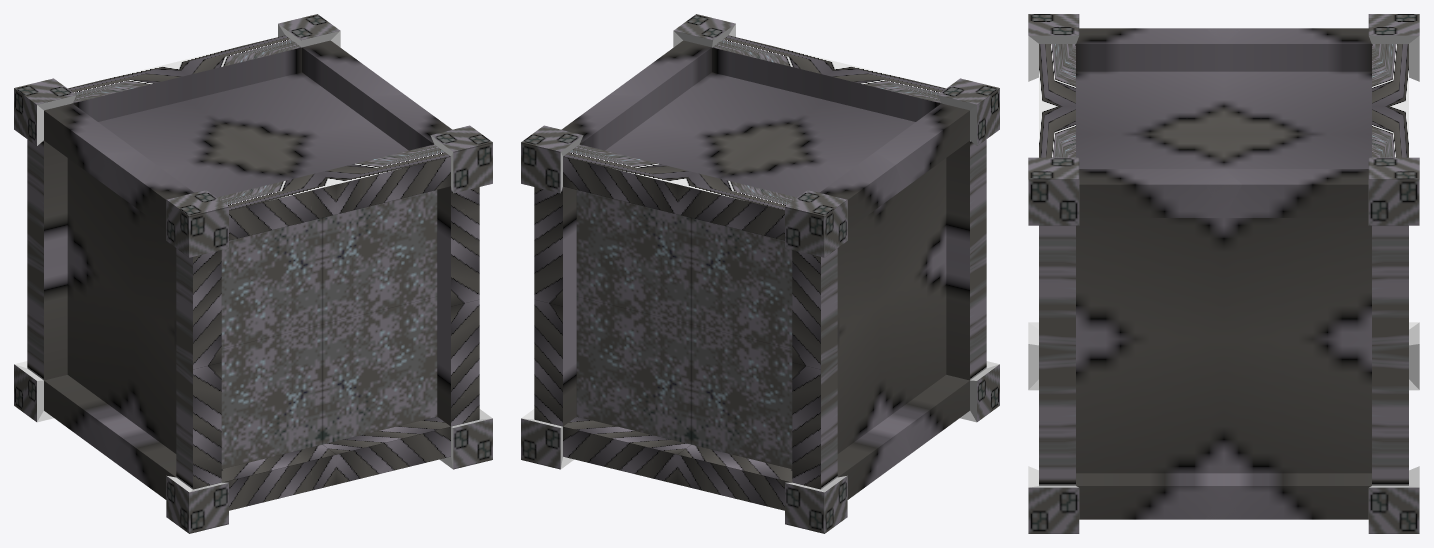
File: caja COMA.fbx
3 views of the same model, side by side, from view 1: azimuth 30°, elevation 25°; view 2: azimuth 150°, elevation 25°; view 3: azimuth 270°, elevation 25° (orthographic). The views are drawn at different scales.
Visible parts, largest first — view 1: Cube; view 2: Cube; view 3: Cube.
Boxes of the visible parts, x1,y1,x2,y2 form: Cube: (14, 14, 492, 533); Cube: (521, 14, 999, 533); Cube: (1028, 14, 1419, 533).
Bounding box in the file's own units: 212 × 212 × 212.
